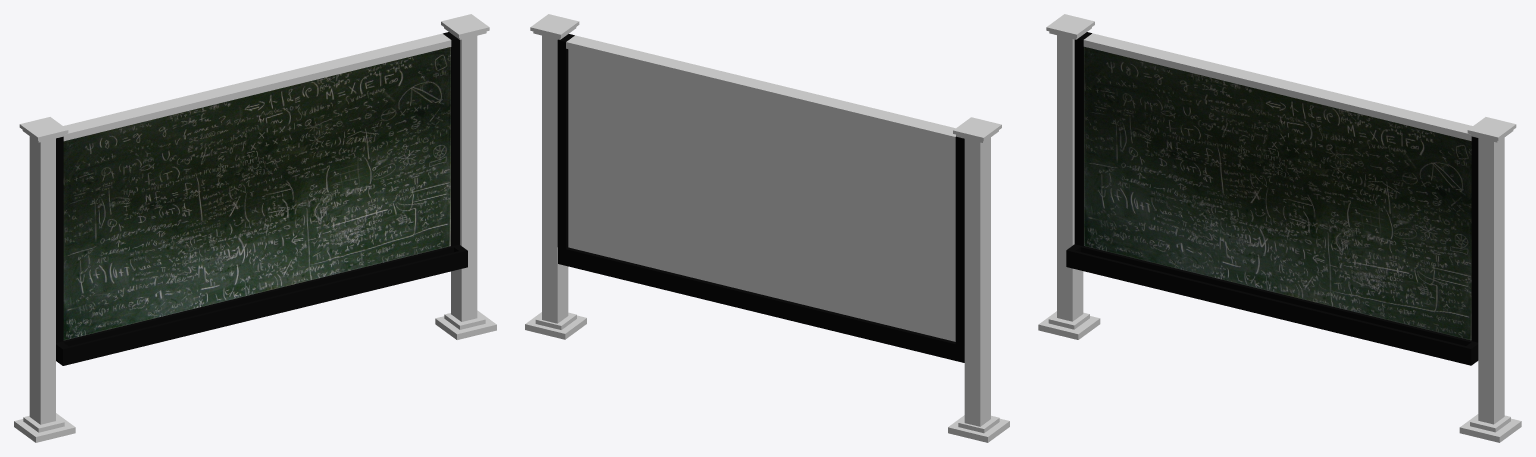
Rendered from board.fbx.
3 views of the same model, side by side, from view 1: azimuth 30°, elevation 25°; view 2: azimuth 150°, elevation 25°; view 3: azimuth 330°, elevation 25° (orthographic).
Parts seen in each view (by area): view 1: Boîte012; view 2: Boîte012; view 3: Boîte012.
Boxes of the visible parts, x1=… form: Boîte012: x1=14, y1=14, x2=496, y2=442; Boîte012: x1=525, y1=14, x2=1009, y2=442; Boîte012: x1=1038, y1=14, x2=1521, y2=442.
Size of the model in its own units: 108 by 67.68 by 8.86.
